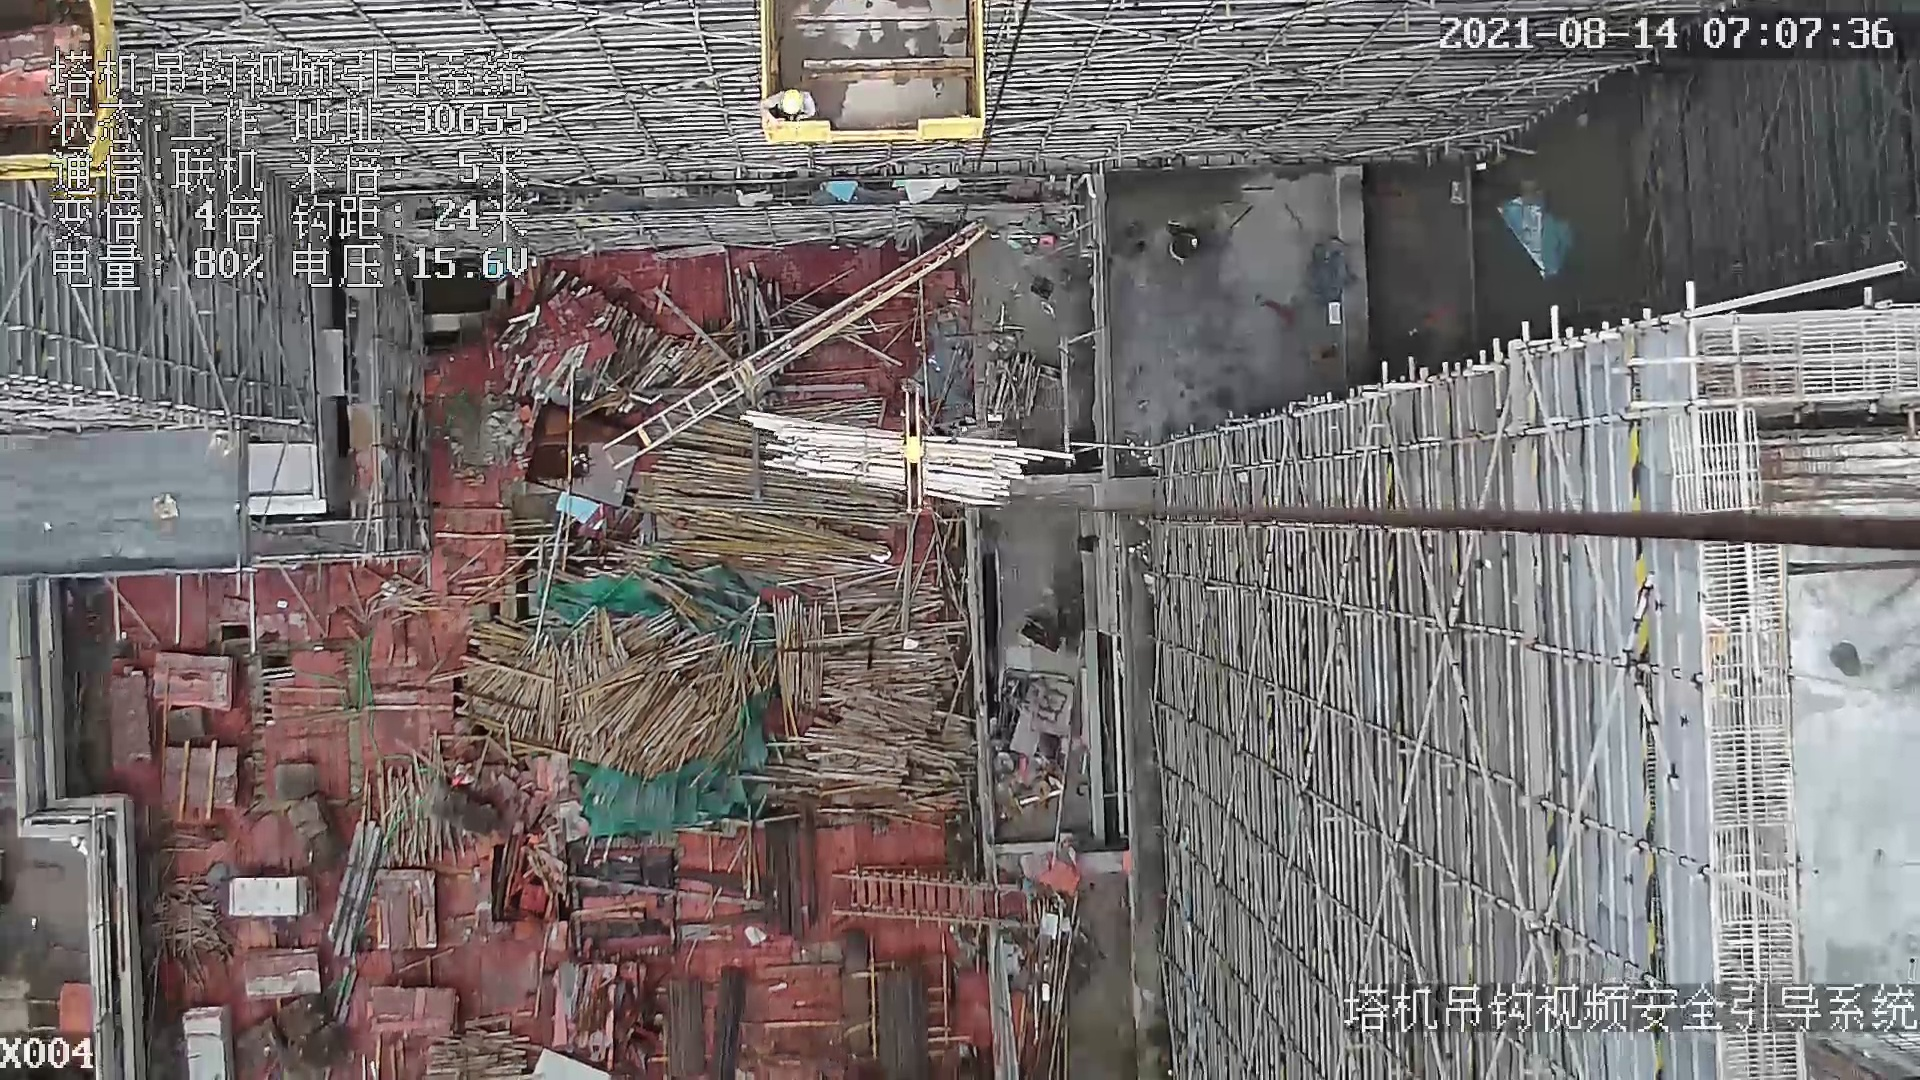helmet: (780, 88, 803, 118)
hook: (897, 386, 931, 515)
person: (753, 86, 815, 122)
